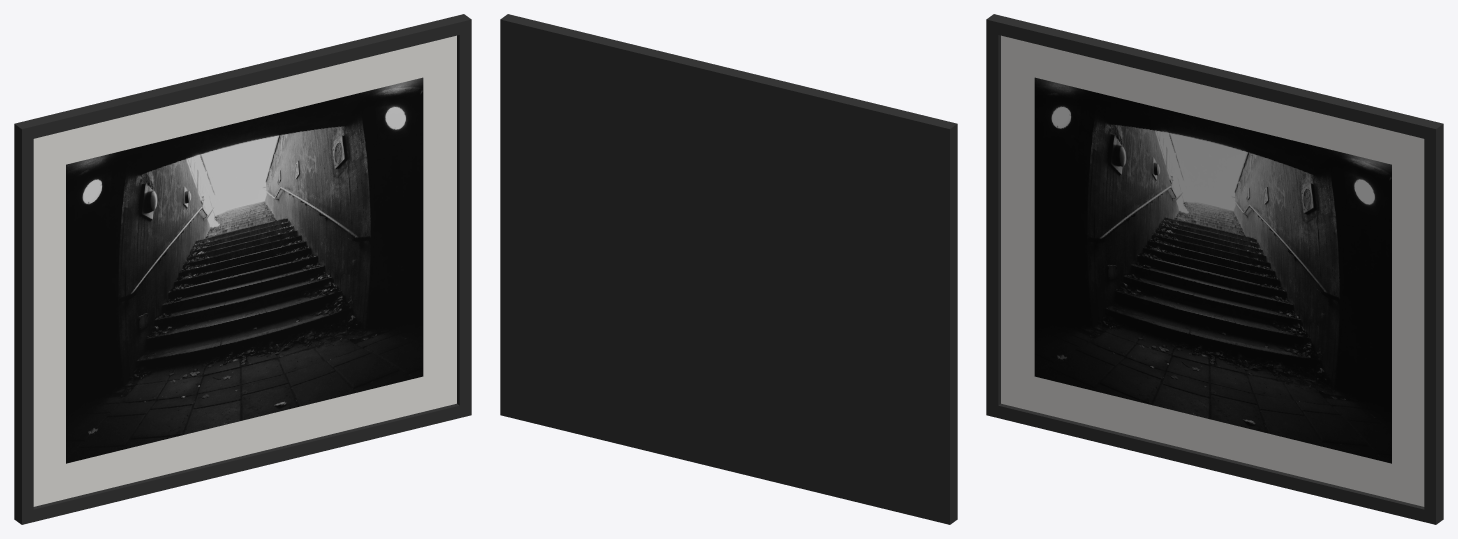
File: uppgangen-60.gltf
The picture shows the model from 3 angles, left to right: view 1: azimuth 30°, elevation 25°; view 2: azimuth 150°, elevation 25°; view 3: azimuth 330°, elevation 25°; orthographic projection.
Visible parts, largest first — view 1: tavla; view 2: tavla; view 3: tavla.
Part boxes in pixels (<box>): tavla: <box>14,14,471,524</box>; tavla: <box>500,14,957,524</box>; tavla: <box>986,14,1443,524</box>.
Bounding box in the file's own units: 0.7551 × 0.6348 × 0.022.
3 materials, 1 textured.
